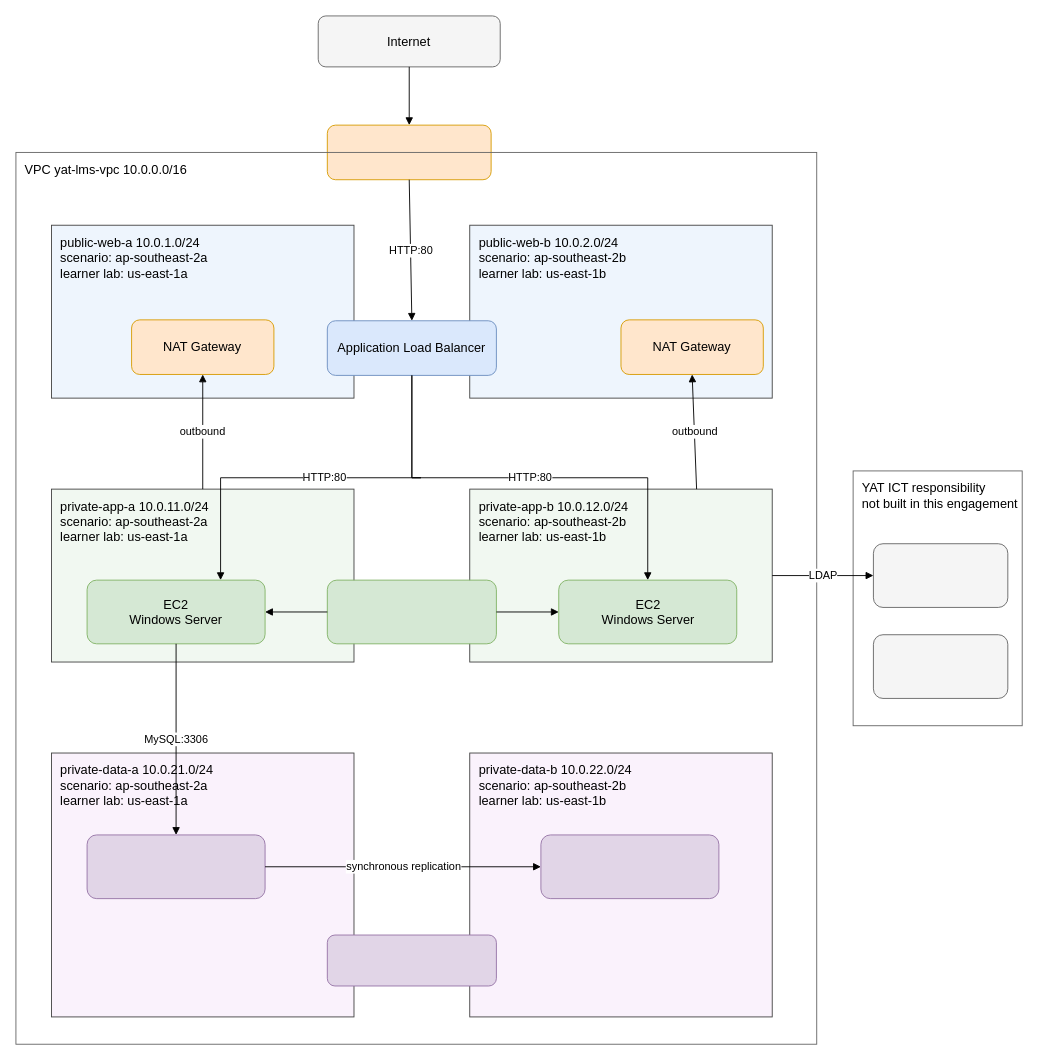
Image size: 1038x1060. Some labels were removed from this diagram. The centre of each missing label's shape, as x and y in pixels:
Auto Scaling group: the point at 411,611
DB subnet group: the point at 411,960
Internet Gateway: the point at 408,152
RDS for MySQL primary: the point at 175,866
RDS for MySQL standby: the point at 629,866
Site-to-Site VPN: the point at 940,575
YAT Campus Active Directory: the point at 940,666
